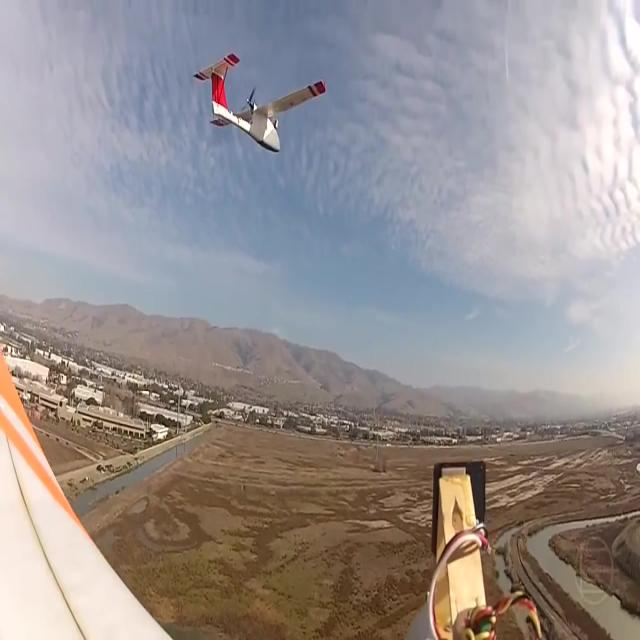iha: (193, 20, 326, 57)
